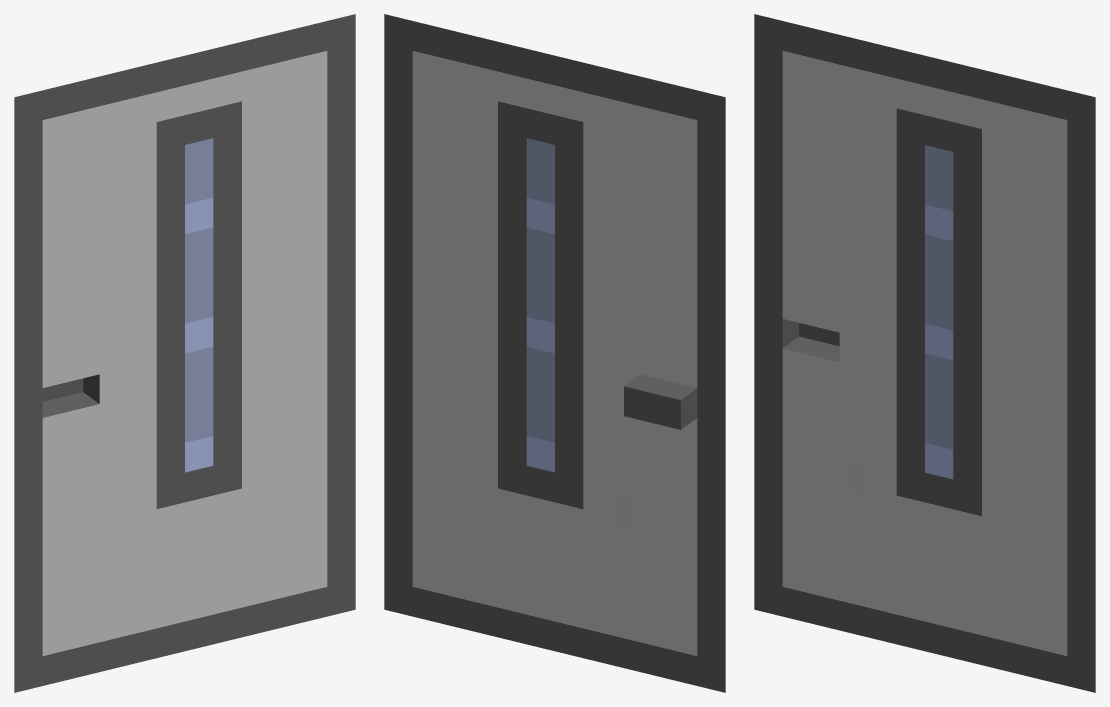
File: DoorDecal.fbx
3 renders of one model, left to right at view 1: azimuth 30°, elevation 25°; view 2: azimuth 150°, elevation 25°; view 3: azimuth 330°, elevation 25°, orthographic.
Visible parts, largest first — view 1: ParedPuerta2; view 2: ParedPuerta2; view 3: ParedPuerta2.
Part boxes in pixels (box(x1,y1,x2,y2)): ParedPuerta2: box(14, 14, 355, 692); ParedPuerta2: box(384, 14, 725, 692); ParedPuerta2: box(754, 14, 1095, 692).
Size of the model in its own units: 19.05 by 229 by 381.
